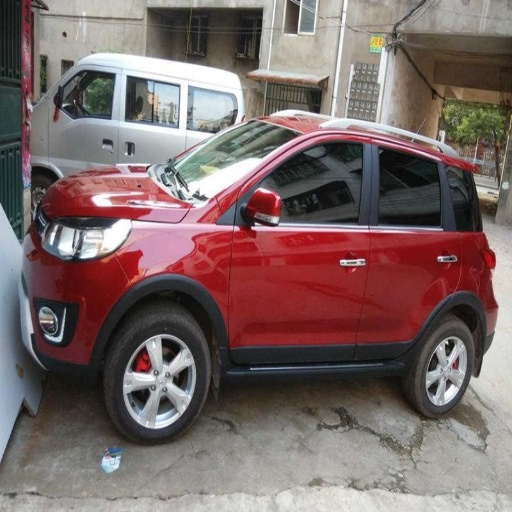back_left_door: (356, 136, 466, 363)
front_bumper: (27, 255, 104, 366)
front_glass: (189, 124, 286, 172)
front_left_door: (230, 138, 370, 360), (67, 71, 123, 116)
